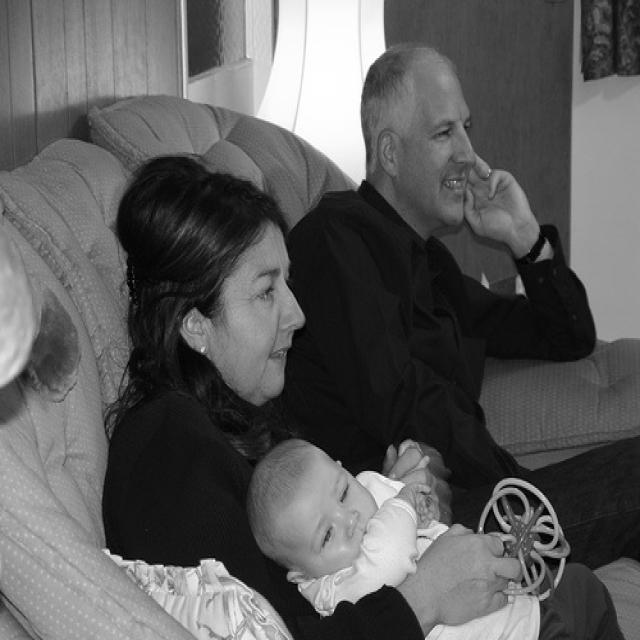sofa: (0, 90, 637, 638)
